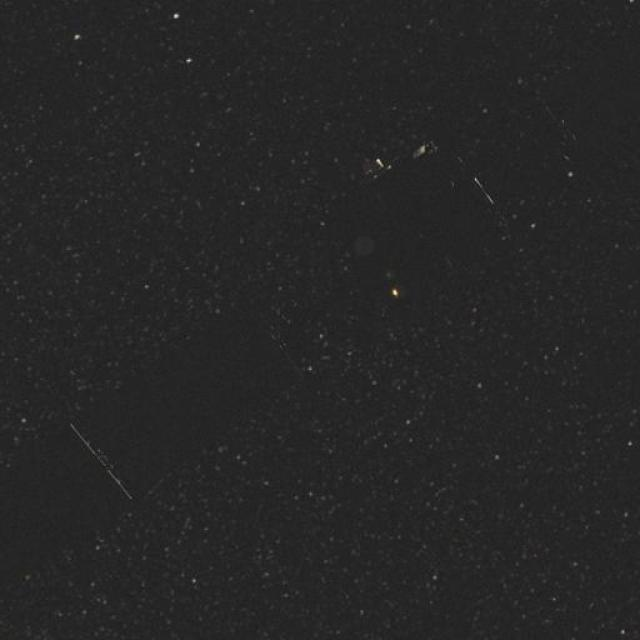smart_1: (334, 132, 510, 334)
